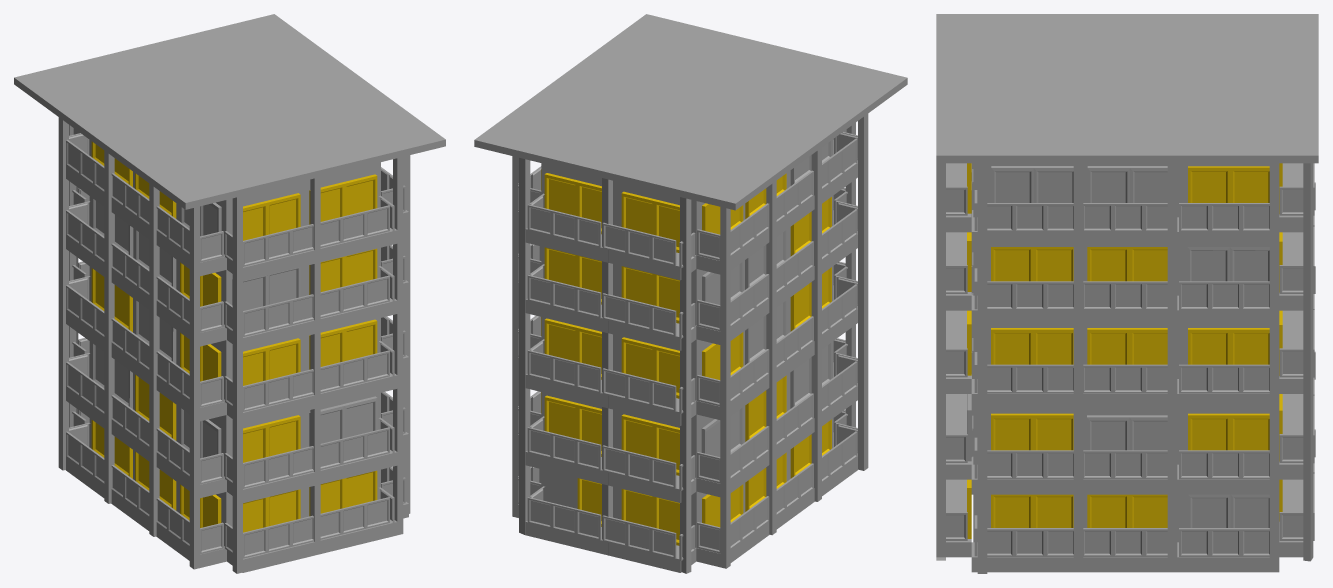
The model's file is Appartment_withRoof.fbx.
3 views of the same model, side by side, from view 1: azimuth 30°, elevation 25°; view 2: azimuth 150°, elevation 25°; view 3: azimuth 270°, elevation 25° (orthographic). The views are drawn at different scales.
Visible parts, largest first — view 1: polySurface2813; view 2: polySurface2813; view 3: polySurface2813.
Boxes of the visible parts, <box> form: polySurface2813: <box>14,14,445,573</box>; polySurface2813: <box>474,14,907,573</box>; polySurface2813: <box>936,14,1318,573</box>.
Size of the model in its own units: 682 by 962 by 778.
